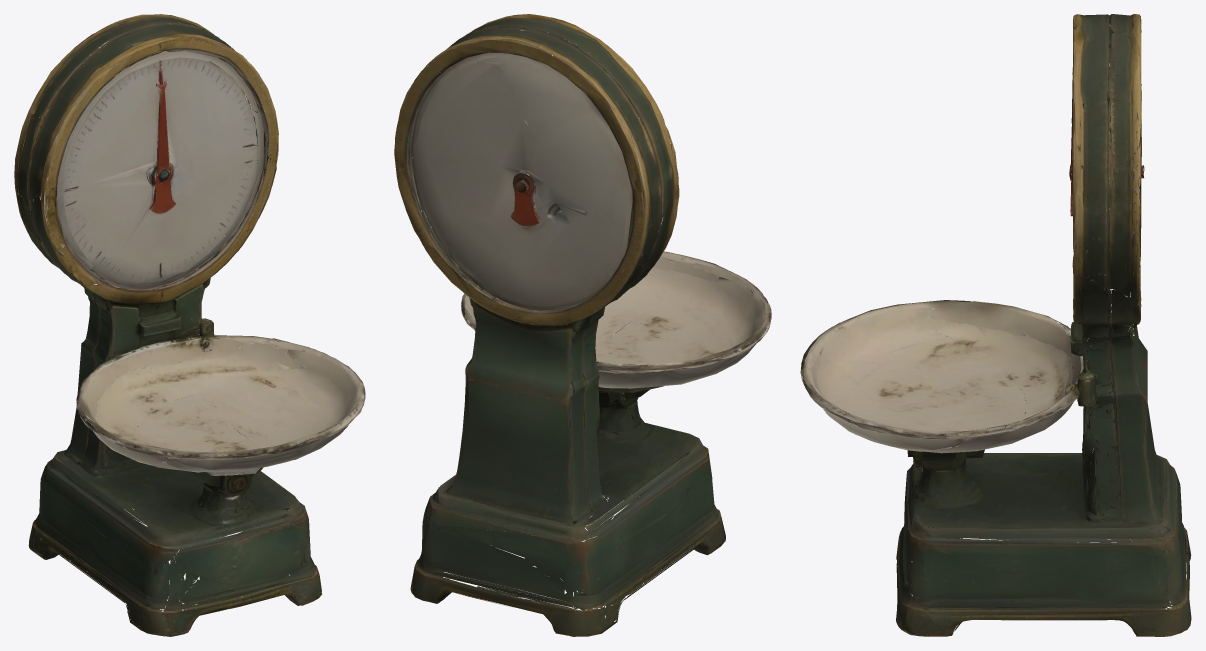
File: ch03_produce_scale.glb
The picture shows the model from 3 angles, left to right: view 1: azimuth 30°, elevation 25°; view 2: azimuth 150°, elevation 25°; view 3: azimuth 270°, elevation 25°; orthographic projection. The views are drawn at different scales.
Parts seen in each view (by area): view 1: material; view 2: material; view 3: material.
Boxes of the visible parts, bbox=[...] form: material: bbox=[14, 14, 365, 636]; material: bbox=[394, 14, 771, 636]; material: bbox=[800, 14, 1191, 636].
Bounding box in the file's own units: 0.5101 × 0.9946 × 0.6248.
1 material, 1 textured.
